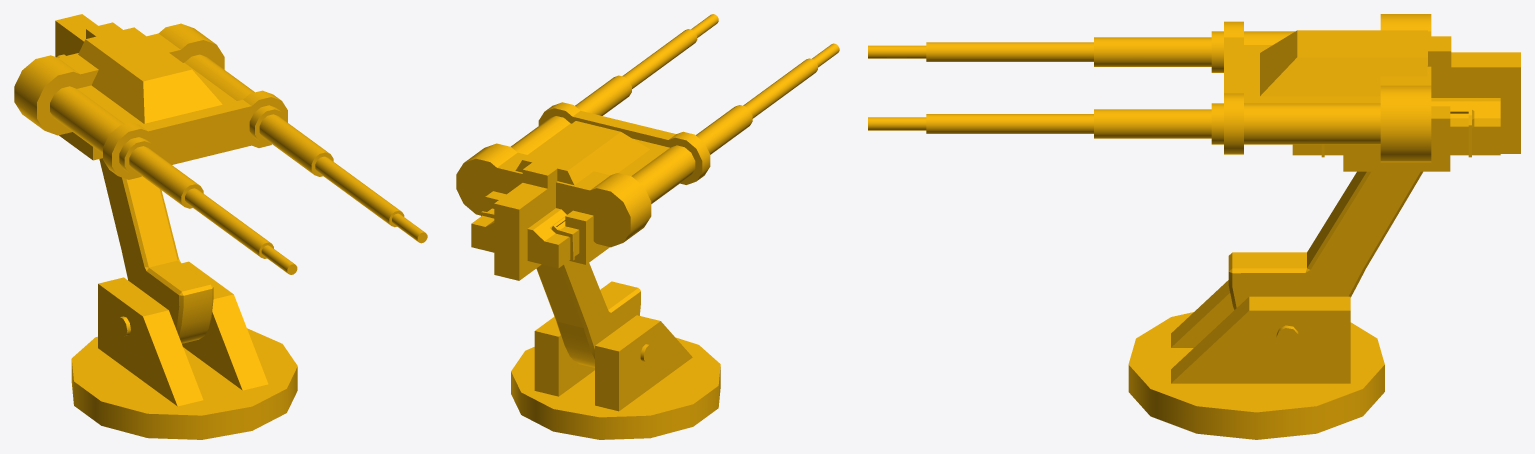
File: Turret02.FBX
3 views of the same model, side by side, from view 1: azimuth 30°, elevation 25°; view 2: azimuth 150°, elevation 25°; view 3: azimuth 270°, elevation 25° (orthographic). The views are drawn at different scales.
Parts seen in each view (by area): view 1: Turret02, Turret02_Root; view 2: Turret02, Turret02_Root; view 3: Turret02, Turret02_Root.
Boxes of the visible parts, left/top/right/bottom form: Turret02: left=14, top=14, right=427, bottom=343; Turret02_Root: left=71, top=261, right=297, bottom=439; Turret02: left=456, top=14, right=839, bottom=367; Turret02_Root: left=511, top=315, right=720, bottom=439; Turret02: left=868, top=14, right=1520, bottom=309; Turret02_Root: left=1128, top=280, right=1384, bottom=439.
Bounding box in the file's own units: 495 × 735 × 1270.
